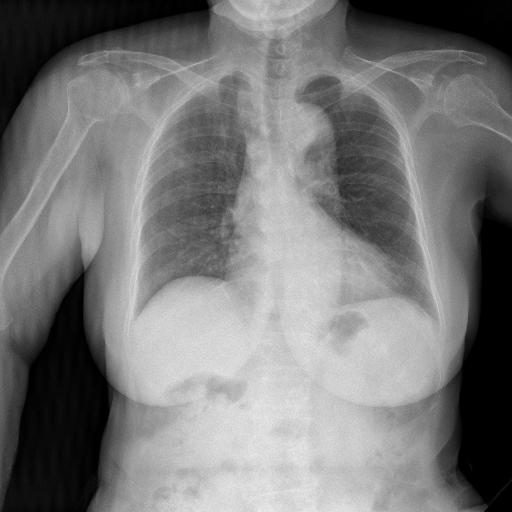Aortic enlargement: (205, 32, 303, 188)
Cardiomegaly: (114, 30, 314, 246)
